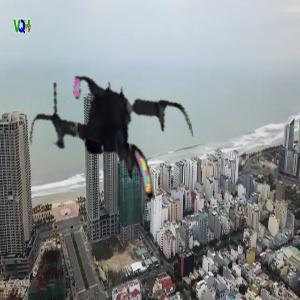drone: (24, 57, 199, 232)
